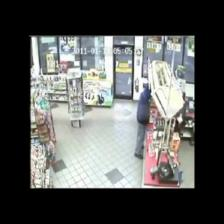person: (134, 83, 152, 158)
